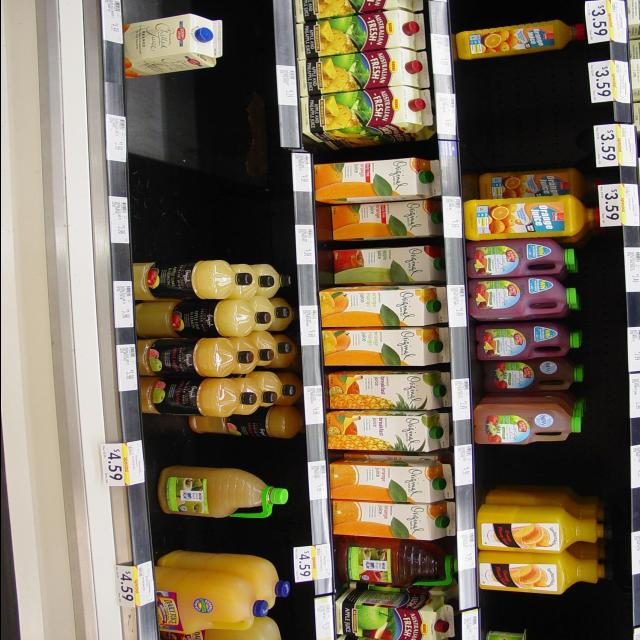empty_space: (134, 77, 270, 260), (462, 58, 570, 172), (477, 443, 567, 486), (157, 524, 271, 551), (154, 438, 262, 464), (487, 595, 585, 621)
